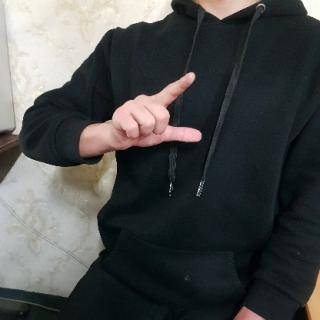LAAM: (110, 72, 215, 152)
